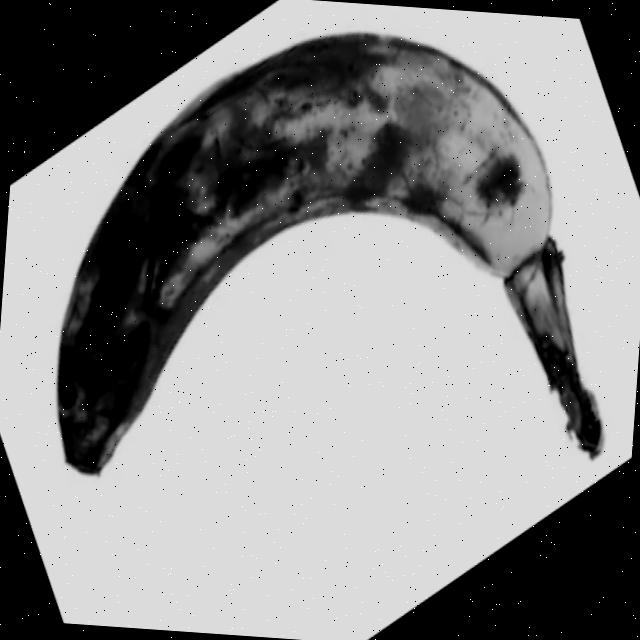overripe: (47, 10, 631, 521)
